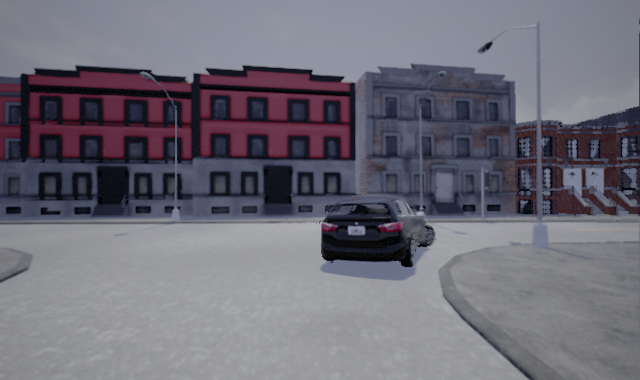vehicle: (318, 193, 435, 269)
